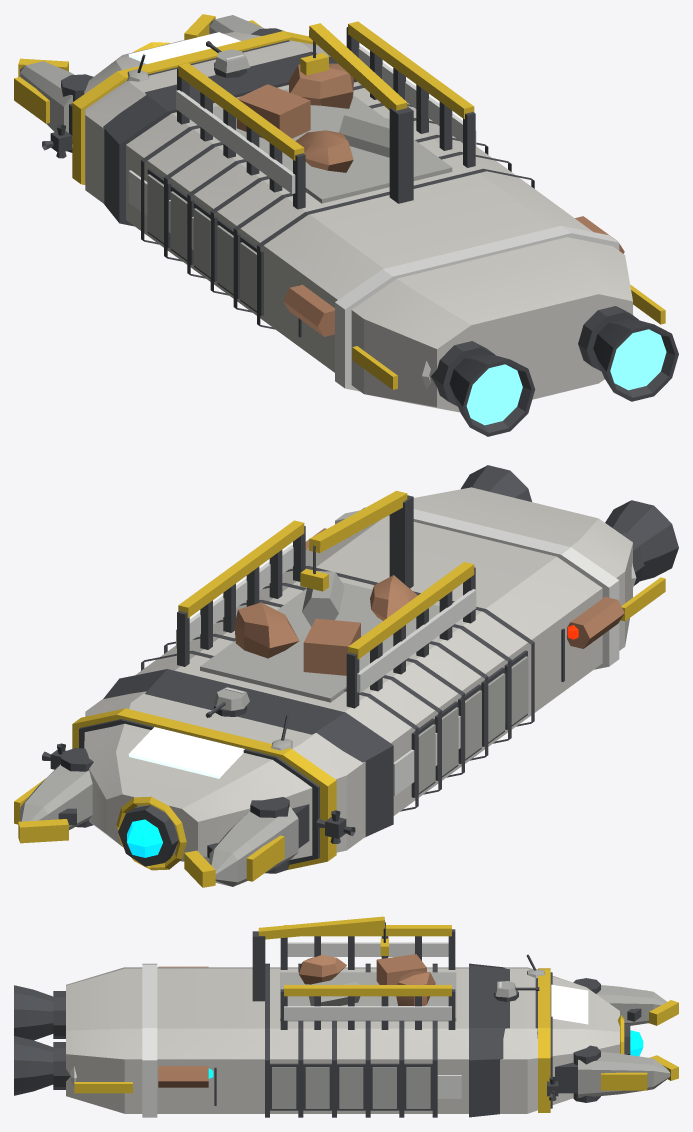
Rendered from salvager.glb.
3 renders of one model, top to bottom at view 1: azimuth 30°, elevation 25°; view 2: azimuth 150°, elevation 25°; view 3: azimuth 270°, elevation 25°, orthographic. The views are drawn at different scales.
Parts seen in each view (by area): view 1: Hull, Jaw_L, Jaw_R, Turret_5; view 2: Hull, Jaw_L, Jaw_R, Turret_5; view 3: Hull, Jaw_R, Jaw_L, Turret_5.
Part boxes in pixels (<box>): Hull: <box>42,21,678,436</box>; Jaw_L: <box>14,58,93,152</box>; Jaw_R: <box>184,14,284,39</box>; Turret_5: <box>206,41,249,77</box>; Hull: <box>42,465,678,870</box>; Jaw_L: <box>184,797,298,887</box>; Jaw_R: <box>14,748,93,843</box>; Turret_5: <box>205,687,249,717</box>; Hull: <box>14,916,643,1117</box>; Jaw_R: <box>573,1045,678,1102</box>; Jaw_L: <box>573,978,678,1025</box>; Turret_5: <box>494,981,539,1001</box>.
Bounding box in the file's own units: 0.7756 × 0.5629 × 2.
